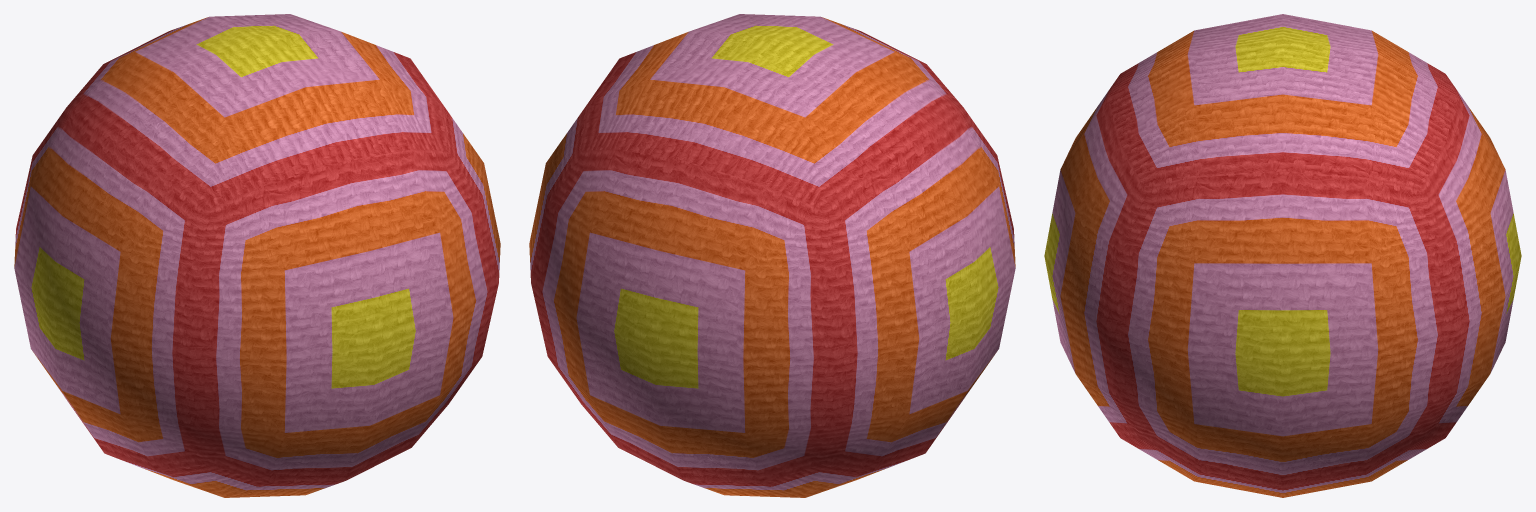
File: Temari.fbx
3 renders of one model, left to right at view 1: azimuth 30°, elevation 25°; view 2: azimuth 150°, elevation 25°; view 3: azimuth 270°, elevation 25°, orthographic.
Parts seen in each view (by area): view 1: Cube; view 2: Cube; view 3: Cube.
Part boxes in pixels (x1=…): Cube: x1=14, y1=14, x2=500, y2=497; Cube: x1=529, y1=14, x2=1015, y2=497; Cube: x1=1044, y1=14, x2=1521, y2=497.
Size of the model in its own units: 0.8785 by 0.8785 by 0.8785.
